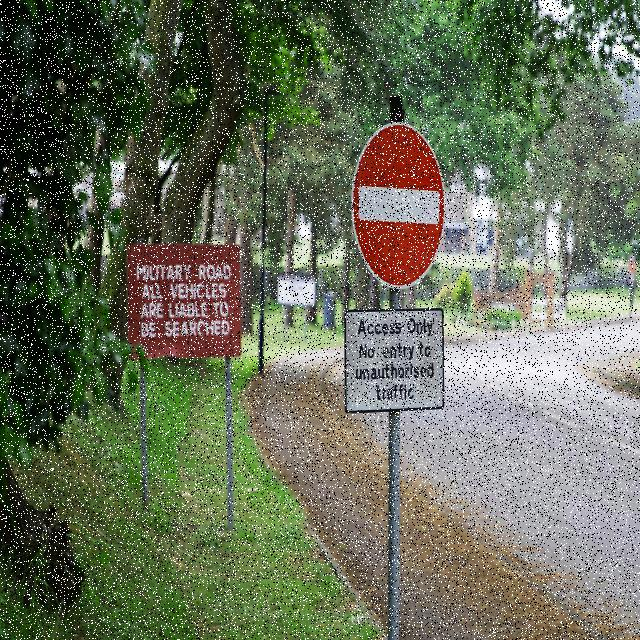no entry: (351, 120, 444, 289)
